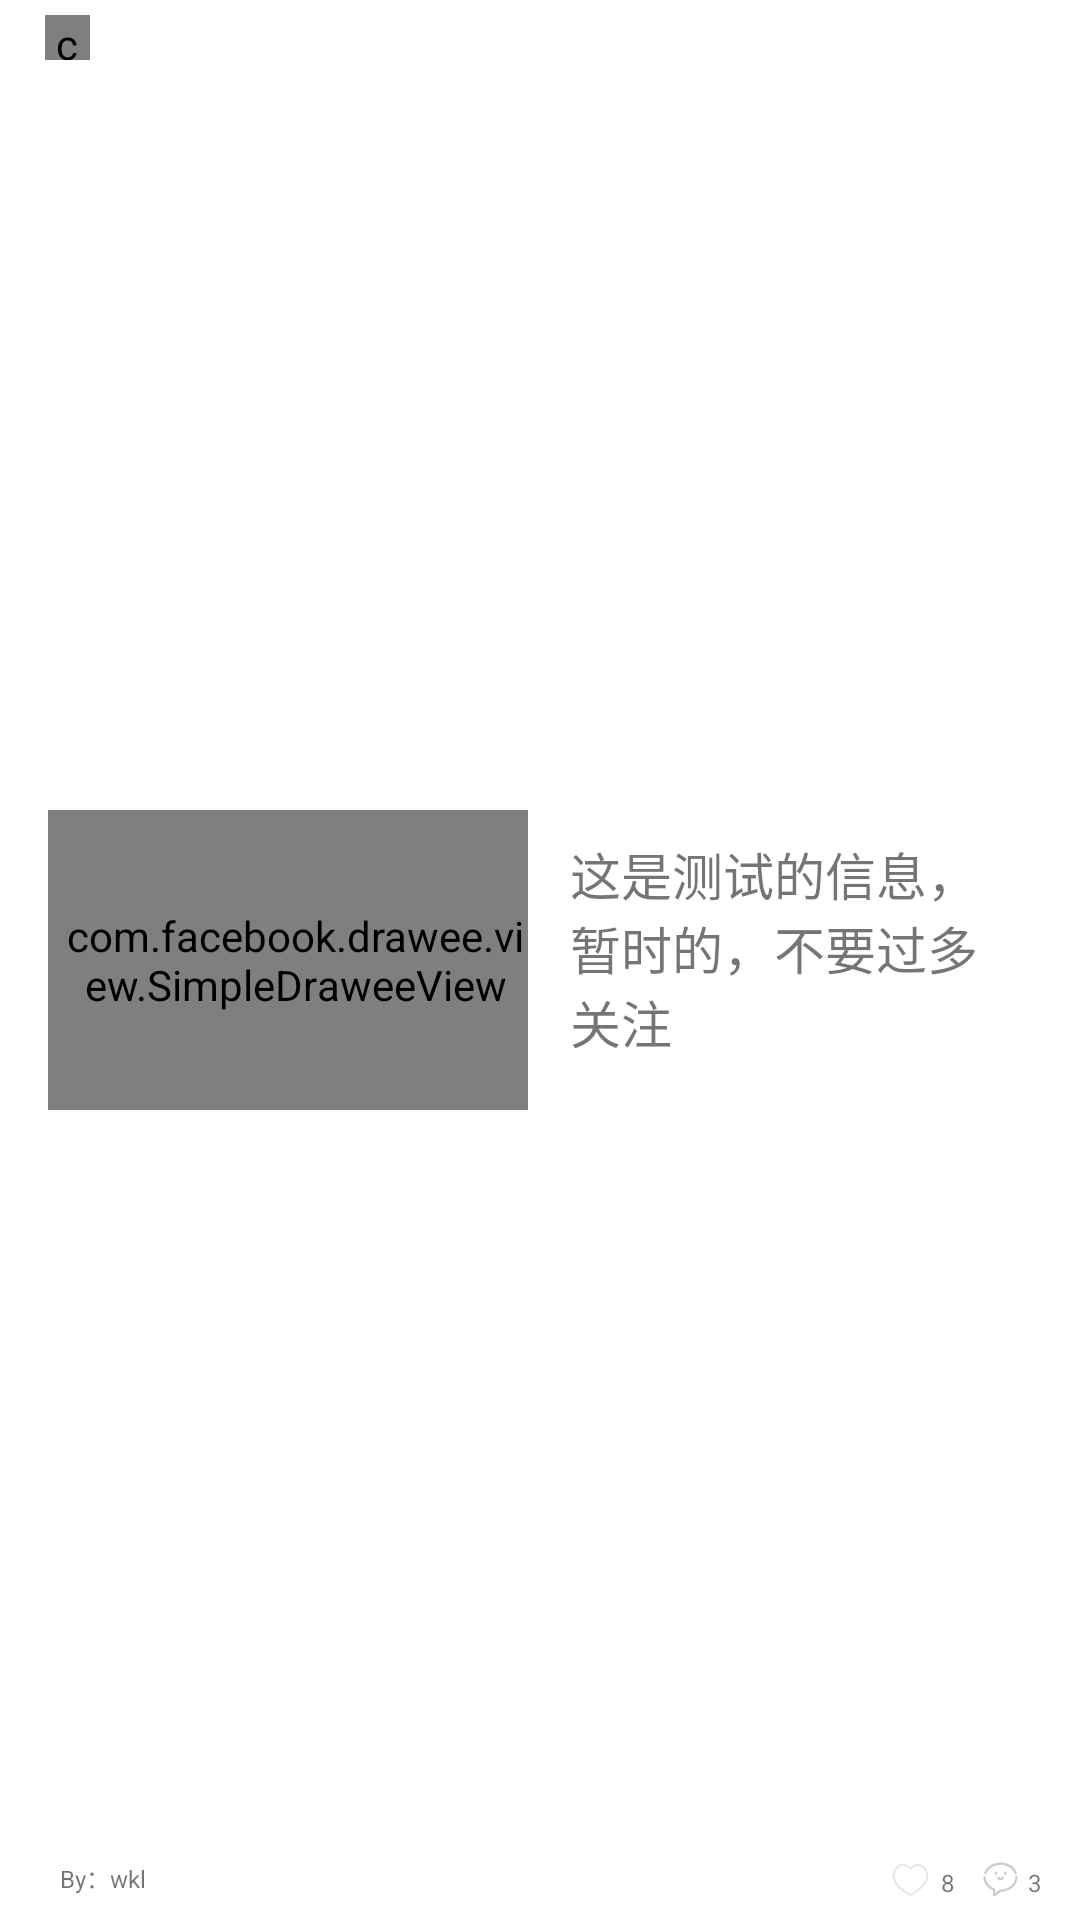

Named icons in this screenshot (1080 x 1920) and their centers, point (x, y):
collect: point (910, 1879)
coment: point (1000, 1879)
